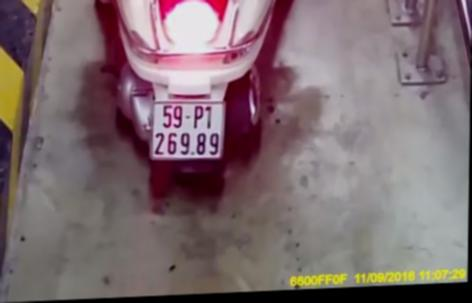License_Plate: (144, 94, 233, 168)
